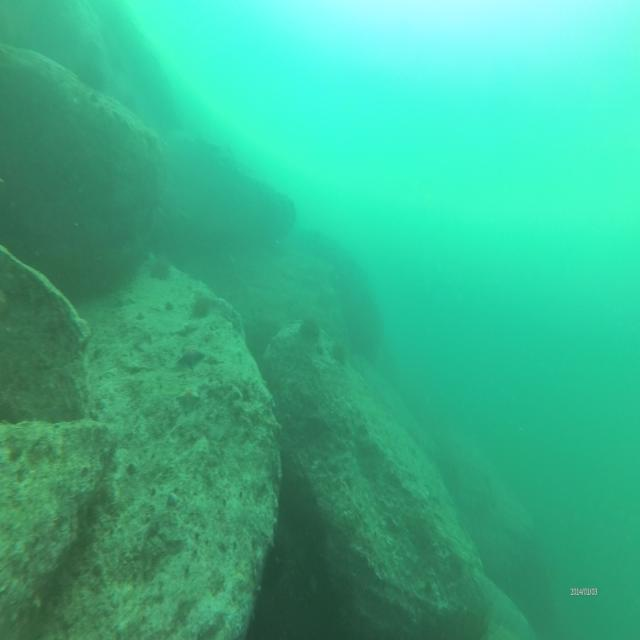echinus: (148, 246, 173, 281), (298, 314, 323, 343), (192, 294, 213, 320), (330, 339, 348, 366)
starfish: (180, 338, 206, 373), (176, 380, 201, 412)
